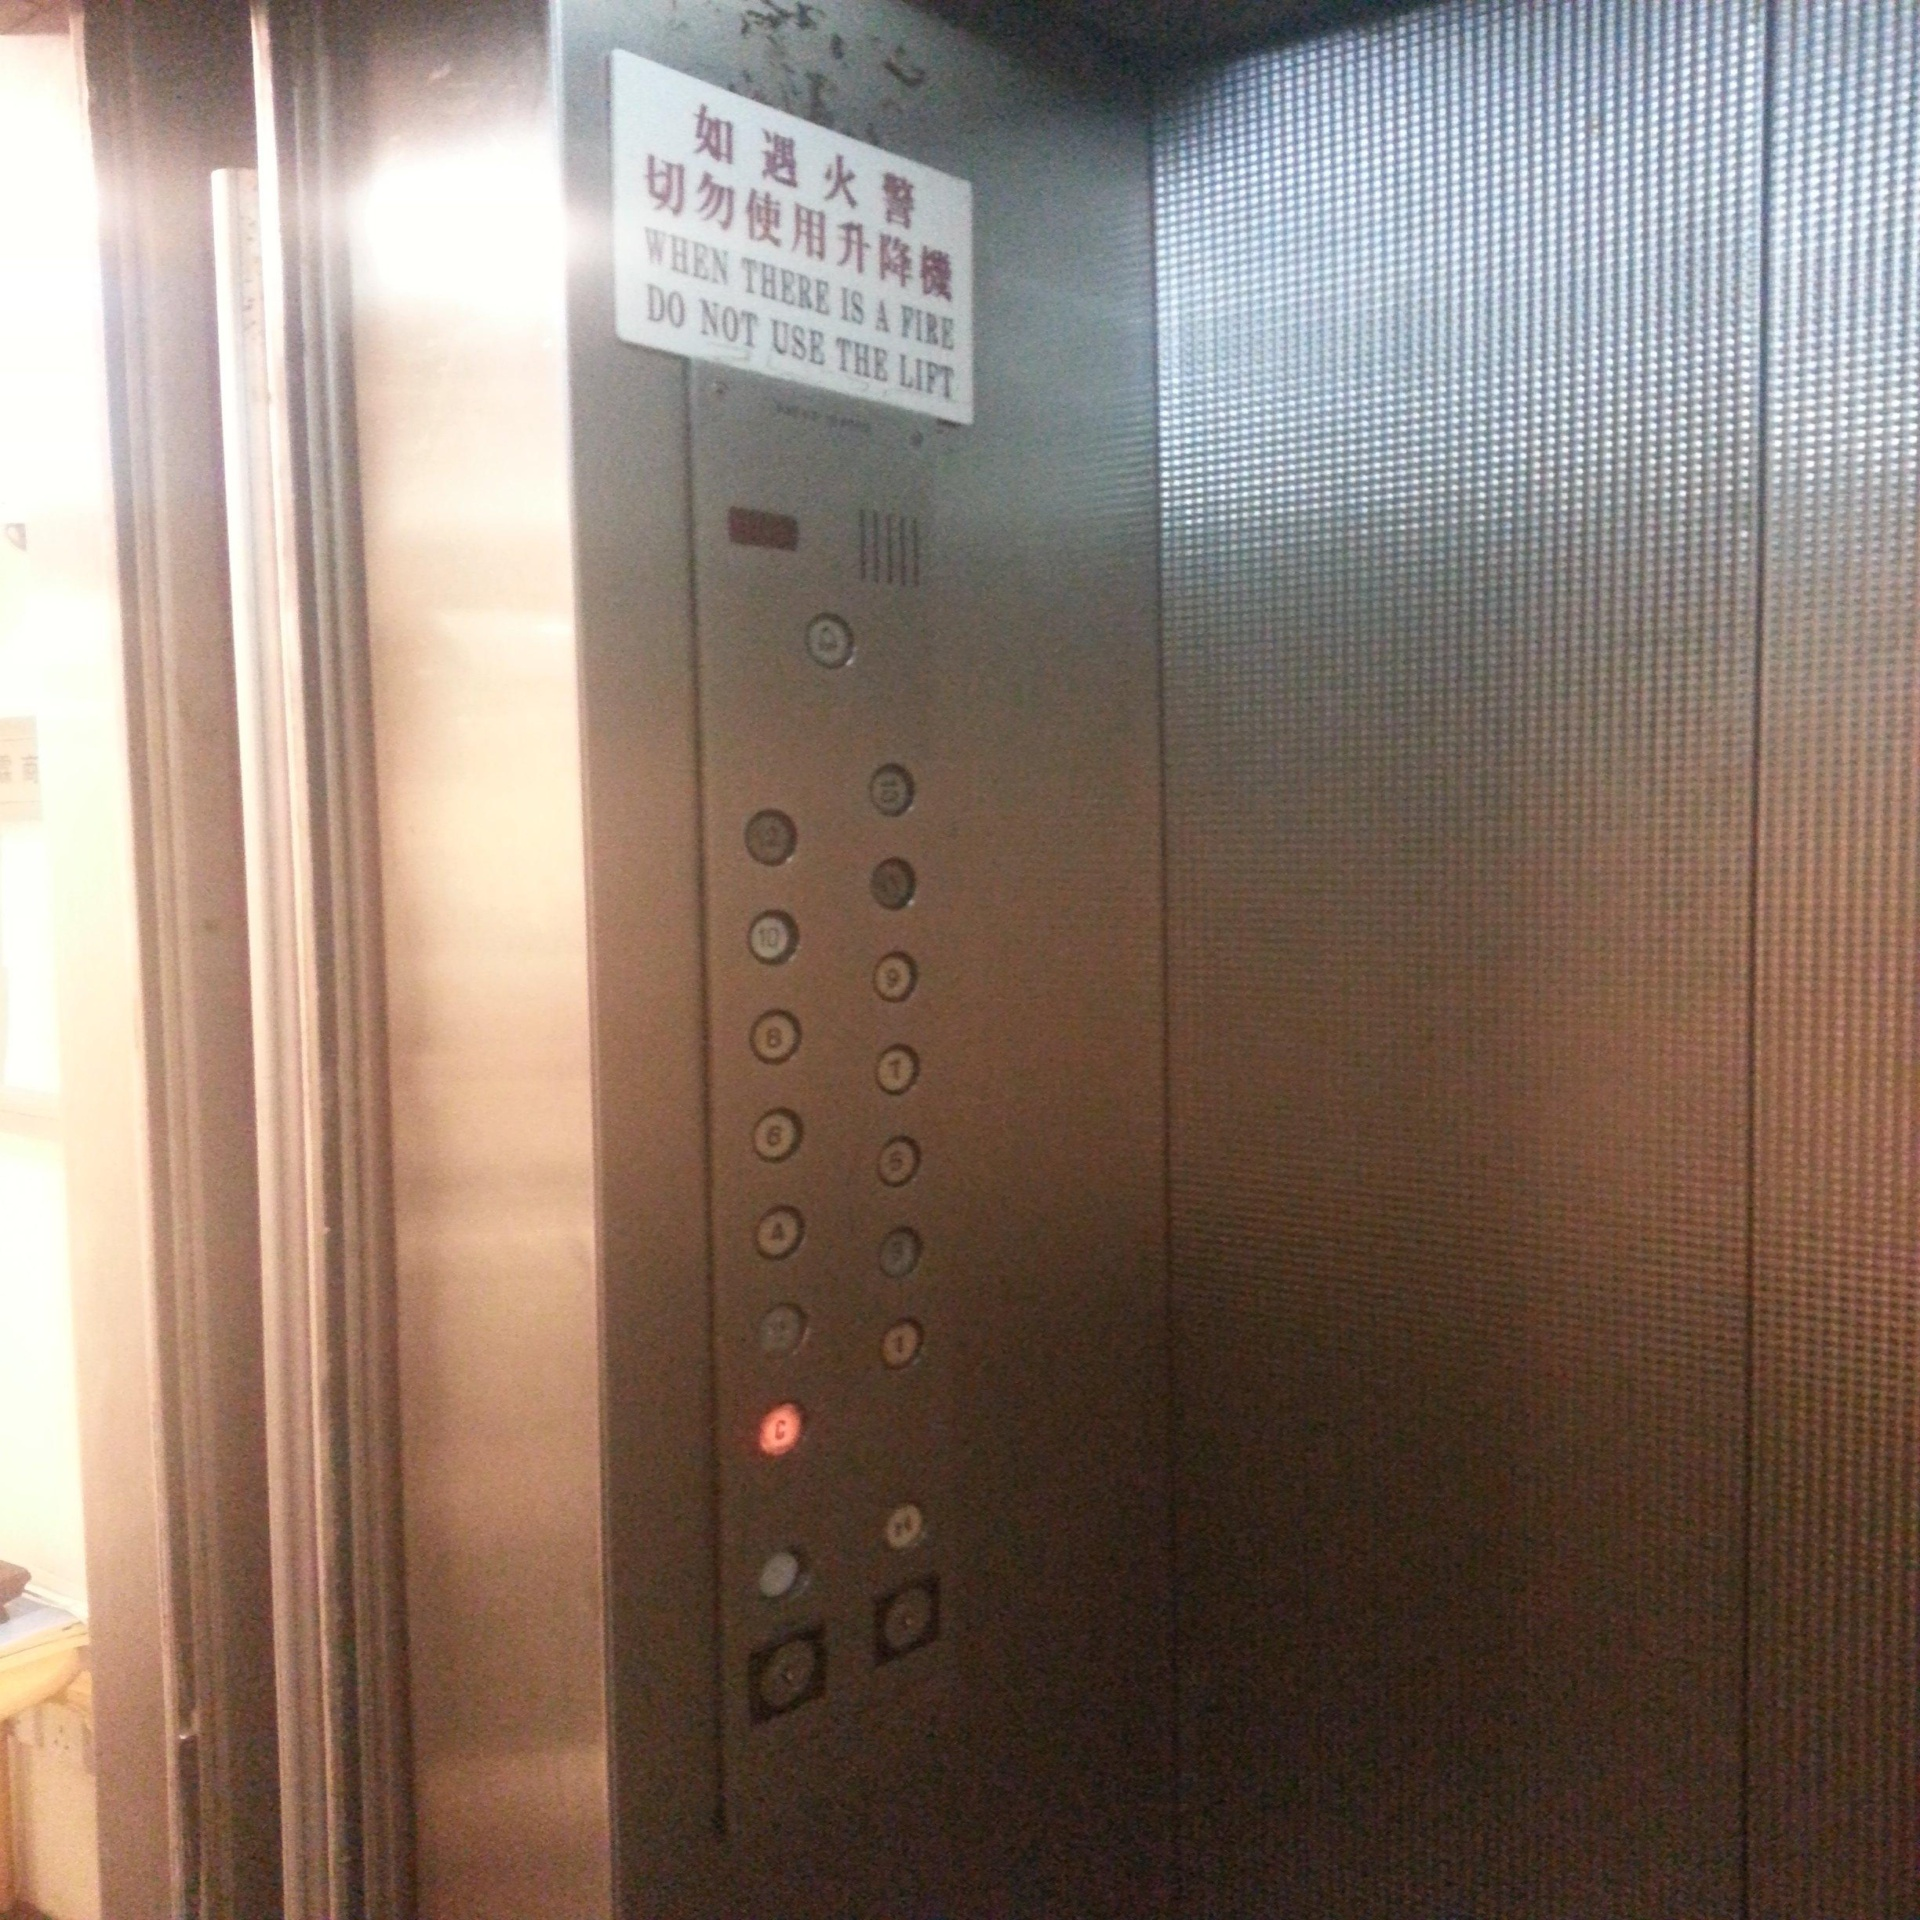1: (874, 1310, 930, 1371)
10: (745, 905, 802, 967)
12: (740, 805, 798, 869)
3: (870, 1220, 927, 1282)
4: (751, 1199, 807, 1261)
5: (870, 1131, 927, 1190), (863, 760, 918, 816)
6: (747, 1101, 804, 1162)
7: (870, 1041, 927, 1101)
8: (745, 1004, 802, 1065)
9: (867, 946, 921, 1007)
G: (753, 1396, 809, 1458)
alarm: (798, 607, 862, 672)
blur: (753, 1299, 809, 1361), (863, 853, 920, 914)
close: (876, 1495, 932, 1556)
empty: (754, 1542, 811, 1604)
keyhole: (740, 1625, 839, 1725), (869, 1574, 948, 1662)
